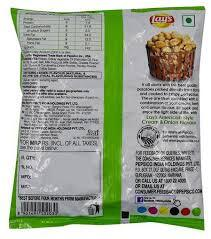VEG: (181, 14, 196, 28)
